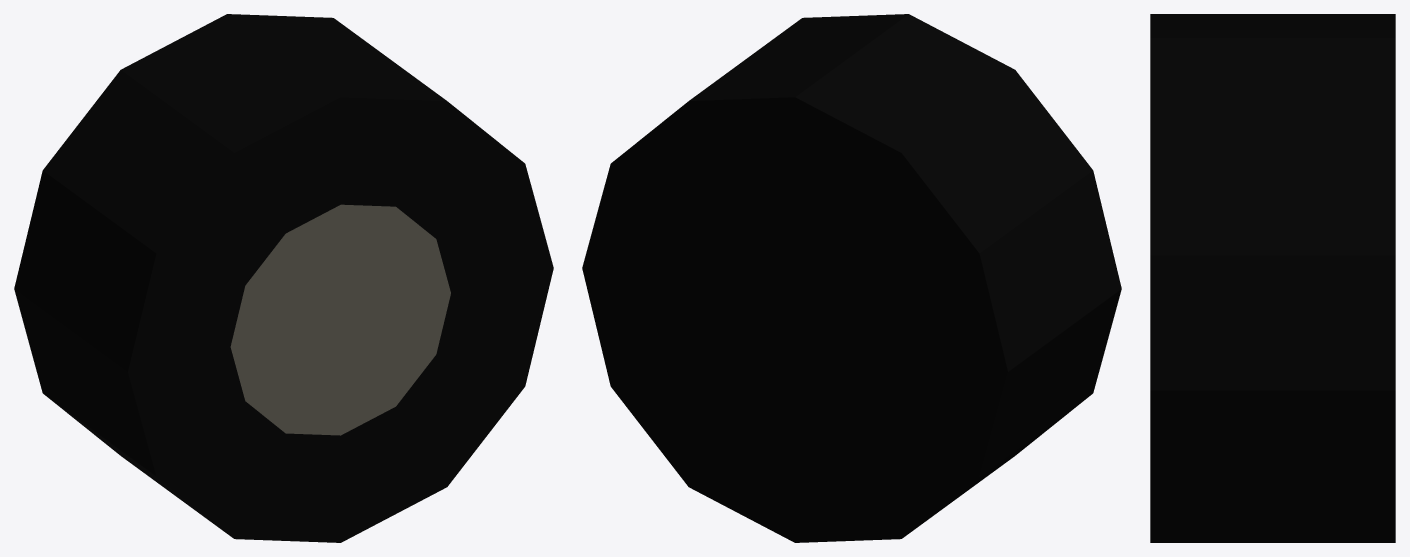
Rendered from CityCarWheel.fbx.
3 views of the same model, side by side, from view 1: azimuth 30°, elevation 25°; view 2: azimuth 150°, elevation 25°; view 3: azimuth 270°, elevation 25° (orthographic). The views are drawn at different scales.
Visible parts, largest first — view 1: CityCarWheel; view 2: CityCarWheel; view 3: CityCarWheel.
Part boxes in pixels (left/top/right/bottom): CityCarWheel: left=14, top=14, right=553, bottom=542; CityCarWheel: left=582, top=14, right=1121, bottom=542; CityCarWheel: left=1150, top=14, right=1395, bottom=542.
Size of the model in its own units: 0.1119 by 0.1119 by 0.0517.
